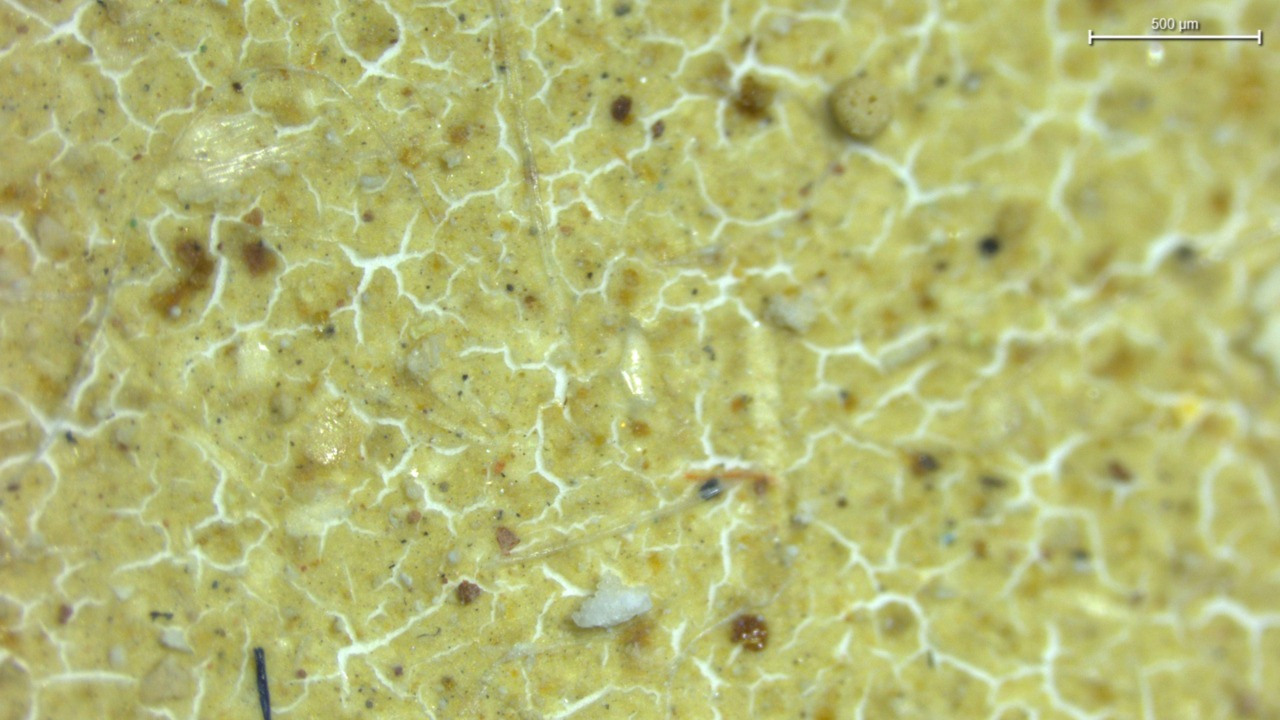microplastic_fragment: (571, 575, 652, 629), (830, 74, 895, 139)
